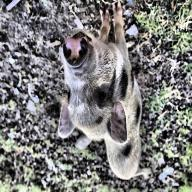boar: (58, 0, 152, 181), (57, 2, 150, 182)
